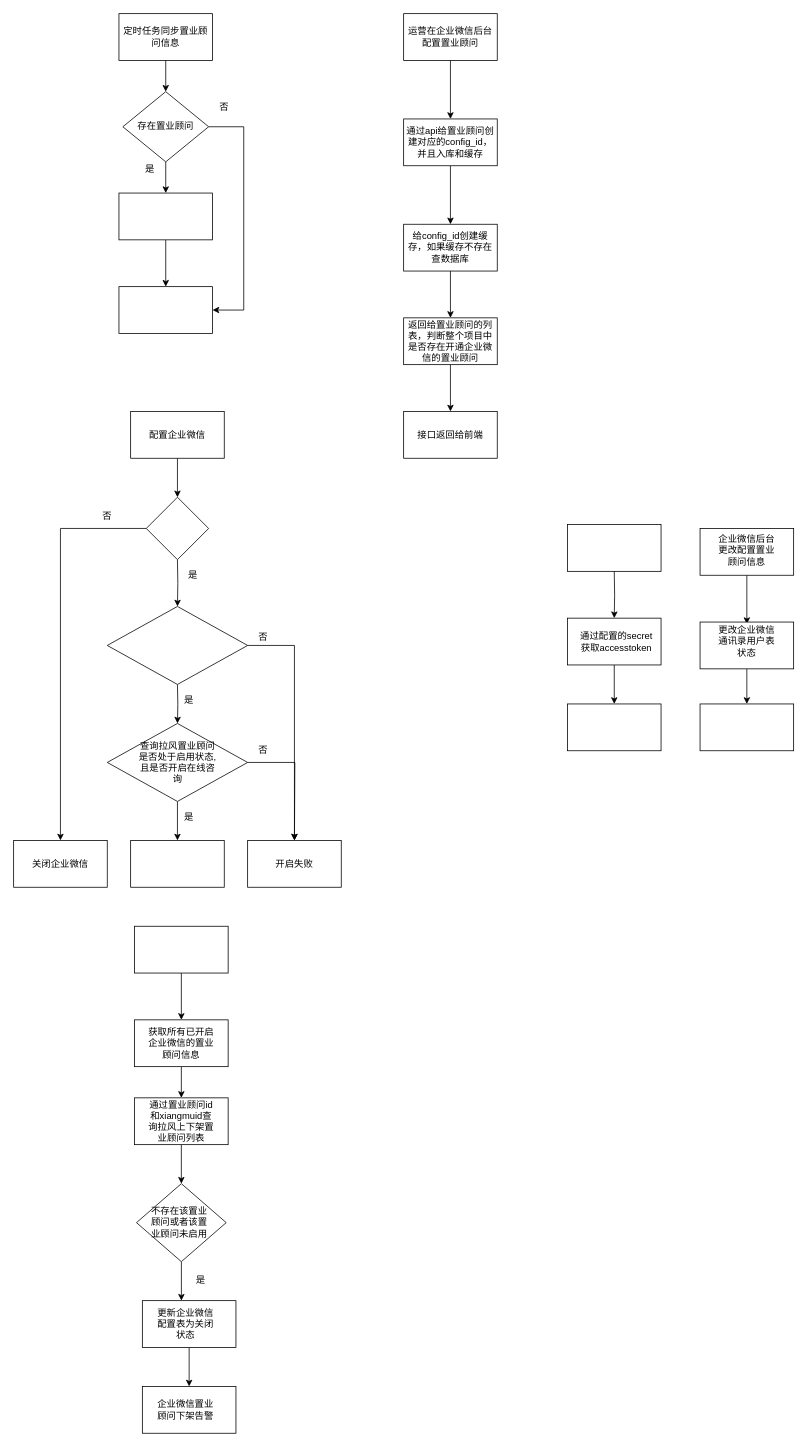
The diagram is 807 pixels wide and 1447 high, and some of its shapes have lost their labels. The box of each missing label's shape, as (x1, y1, x2, y2) in pixels:
企业微信后台配置联系我获取secret: (567, 524, 661, 571)
开启: (130, 840, 224, 887)
开启企业微信: (145, 496, 209, 560)
拉风下架定时任务: (134, 925, 228, 973)
新增置业顾问企业微信配置表: (118, 192, 213, 240)
更新缓存，传递config给前端时也需要判断status: (699, 703, 794, 751)
查看企业微信是否配置该置业顾问: (106, 606, 248, 684)
调用企业微信api,获取configid和qrcode入缓存和入库: (567, 703, 661, 751)
返回配置的企业微信顾问信息: (118, 286, 213, 333)
